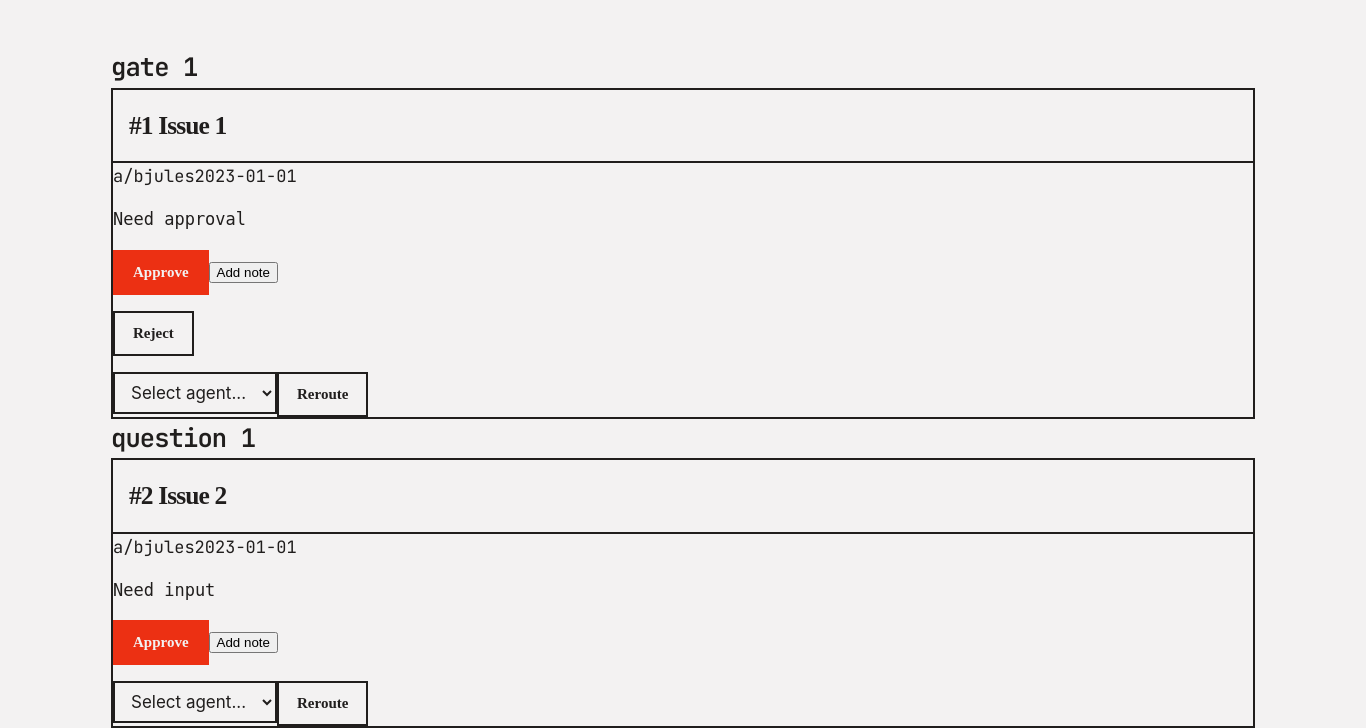
Test case: InboxPage › reject cannot submit empty message, reroute handles errors
Click the button "Reject". click: (153, 333)
box: [113, 311, 194, 356]
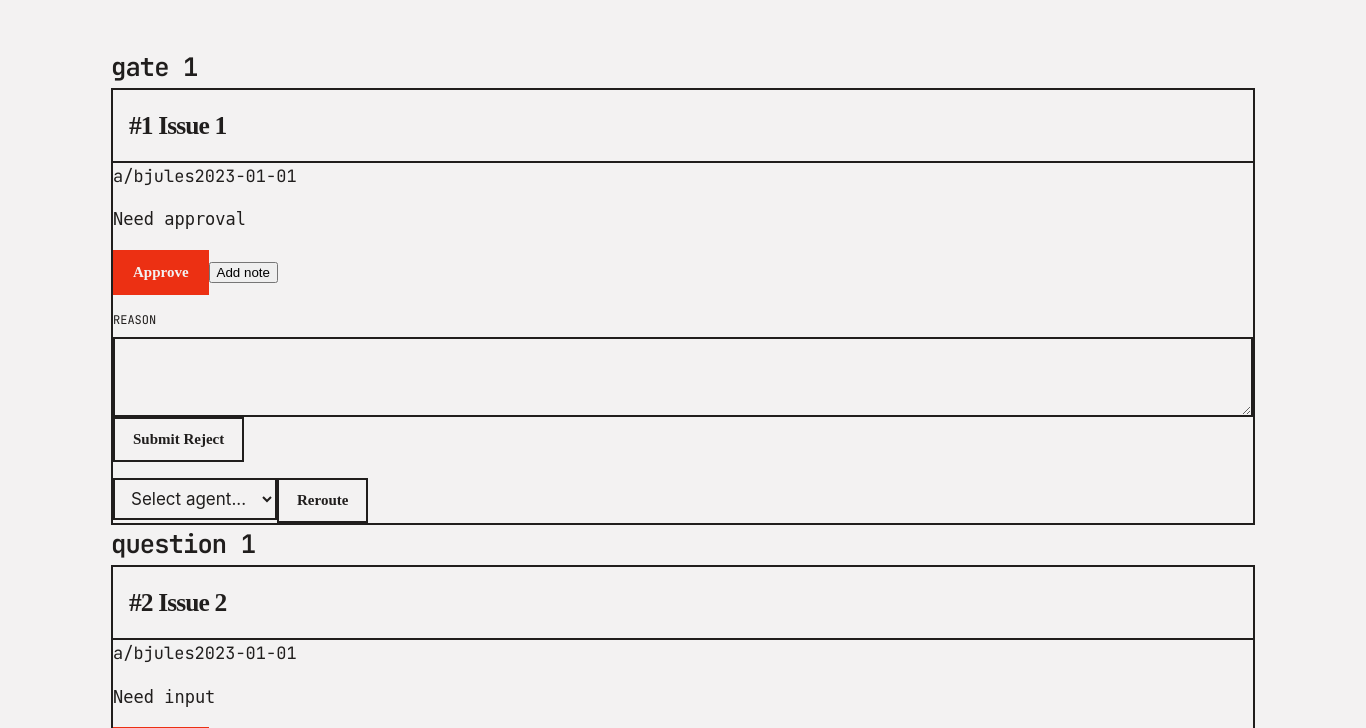
Now the button "Submit Reject" is disabled, box [113, 417, 244, 462]
Type "Bad PR" into the text box labelled "Reason". click: (683, 377)
box: [113, 337, 1253, 417]
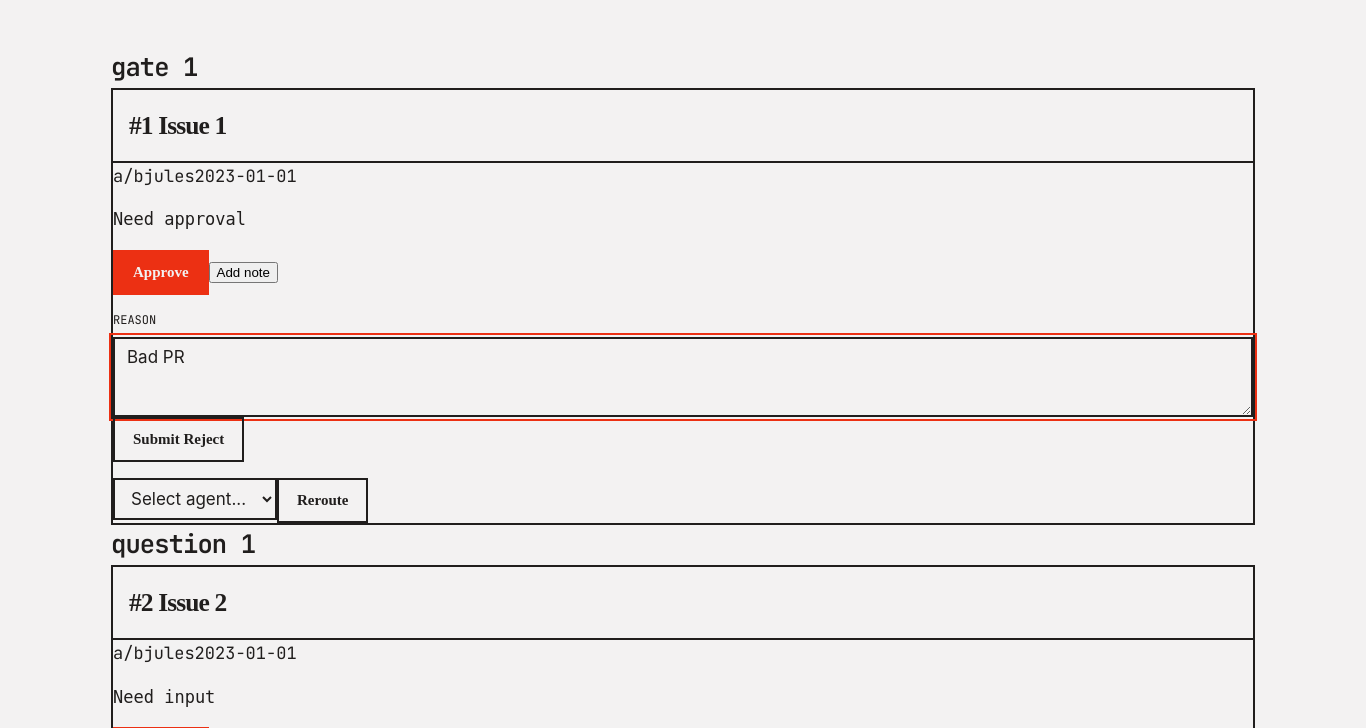
Now the button "Submit Reject" is enabled
Click the button "Submit Reject". click: (179, 440)
box: [113, 417, 244, 462]
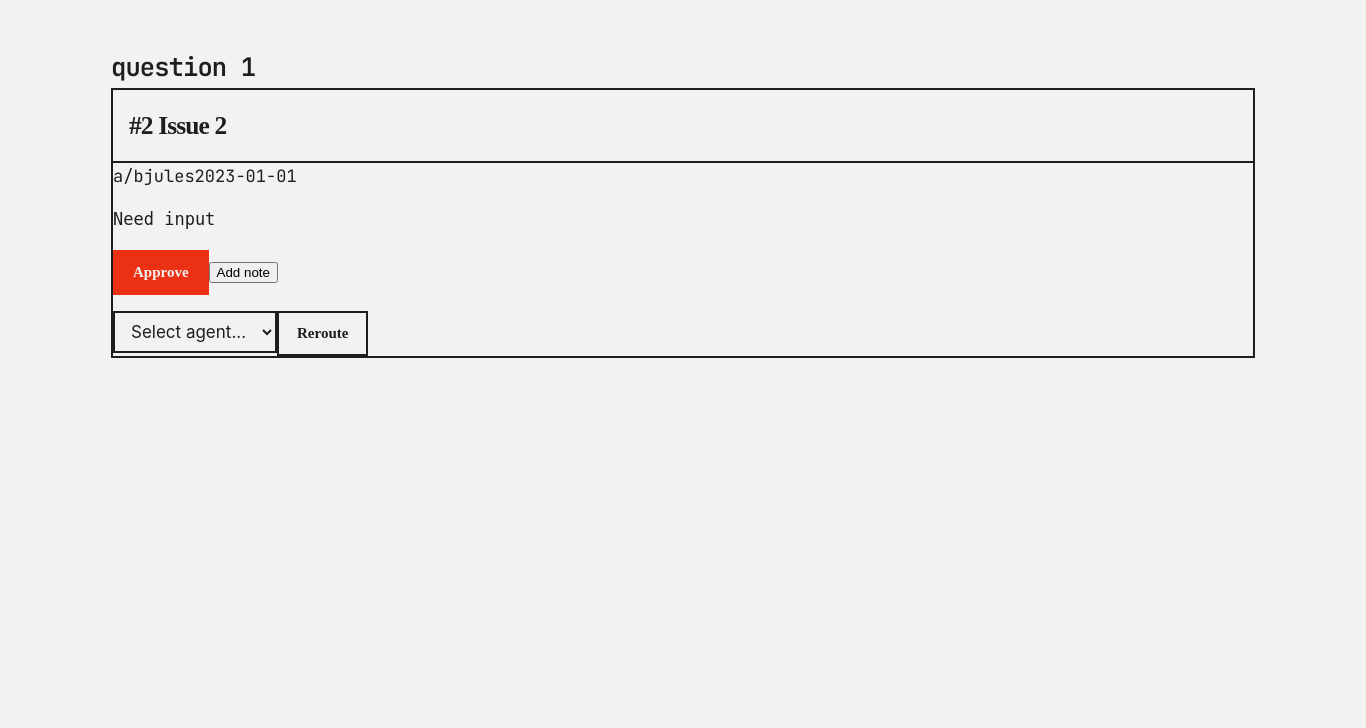
Now the heading "Issue 1" is gone
// Reroute error
Select "other" in the dropdown. click: (195, 332)
box: [113, 311, 277, 353]
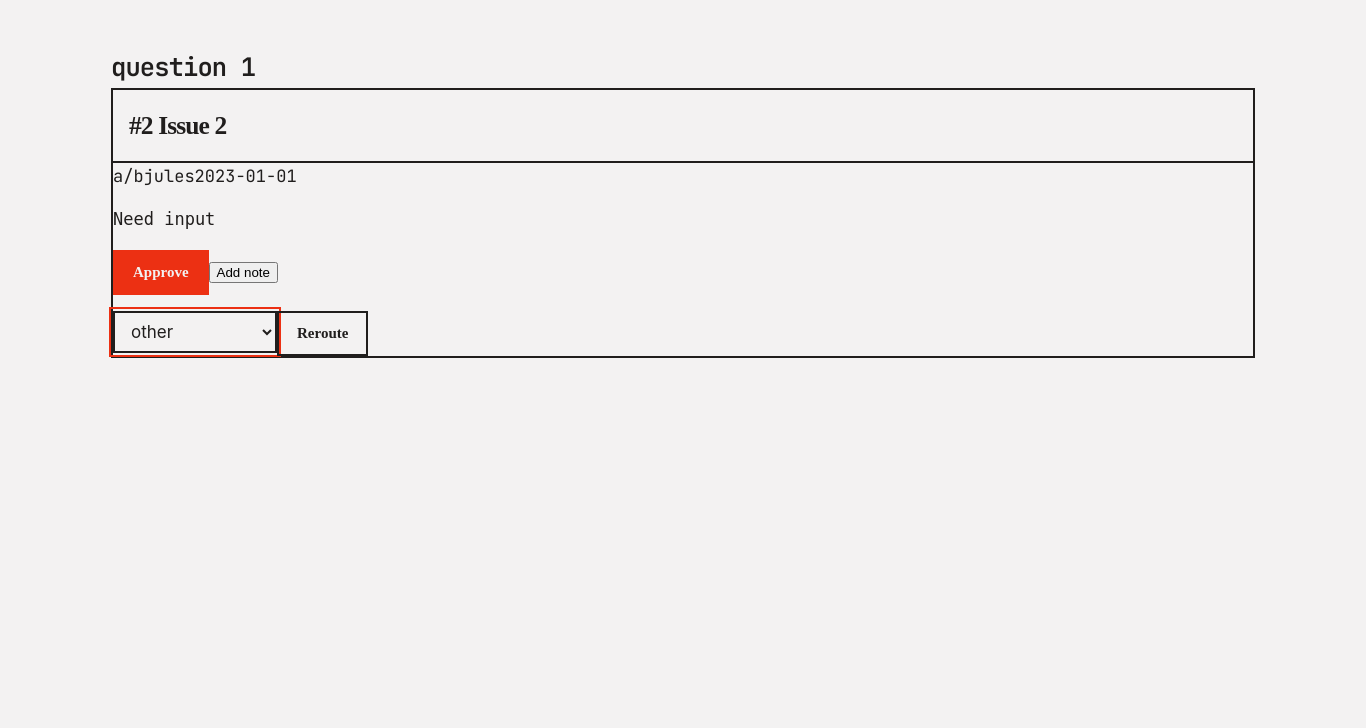
Click the button "Reroute". click: (323, 333)
box: [277, 311, 368, 356]
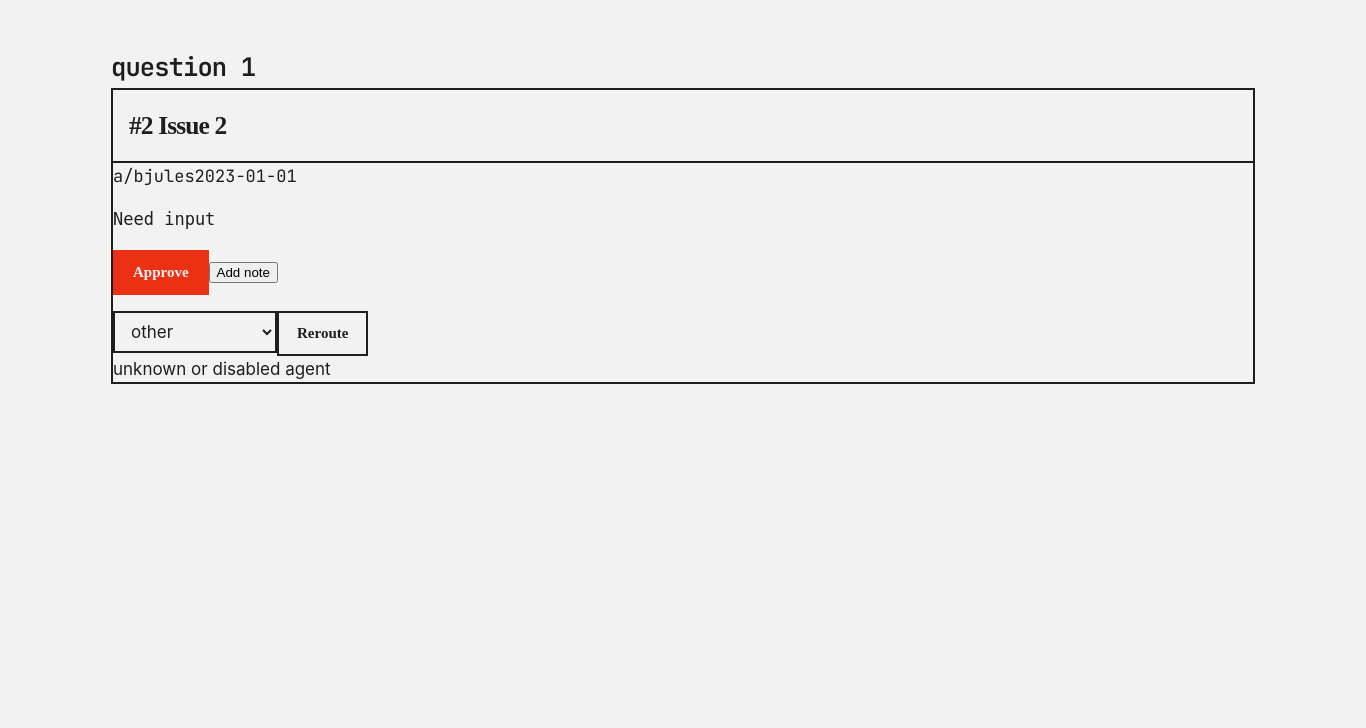
Expected: the heading "#2 Issue 2" is shown, [113, 90, 1253, 163]
Now the message reads "unknown or disabled agent", box [113, 359, 331, 379]
